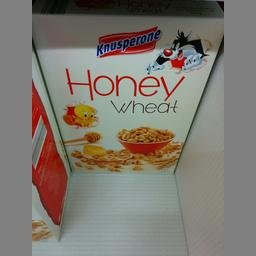cereal: (31, 12, 223, 172)
